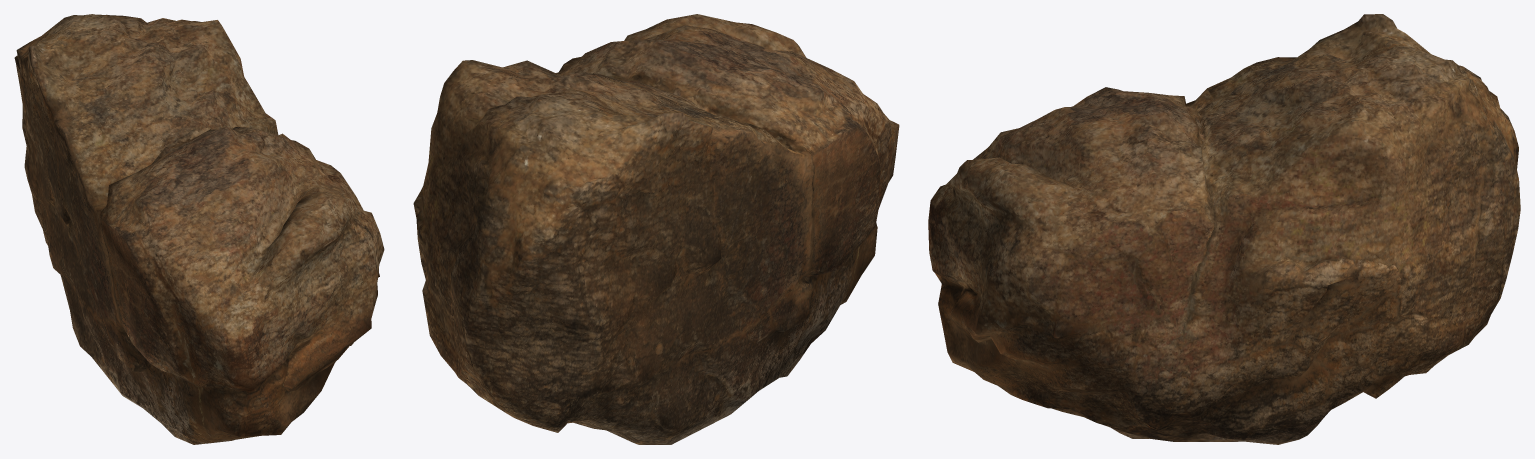
The model's file is mm6_deco_rock06.glb.
The picture shows the model from 3 angles, left to right: view 1: azimuth 30°, elevation 25°; view 2: azimuth 150°, elevation 25°; view 3: azimuth 270°, elevation 25°; orthographic projection. The views are drawn at different scales.
Parts seen in each view (by area): view 1: Rock06; view 2: Rock06; view 3: Rock06.
Boxes of the visible parts, x1,y1,x2,y2 form: Rock06: (14,14,384,444); Rock06: (413,14,899,444); Rock06: (928,14,1520,444).
Size of the model in its own units: 0.6743 by 0.812 by 1.21.
Materials: 1 (1 with a texture image).
